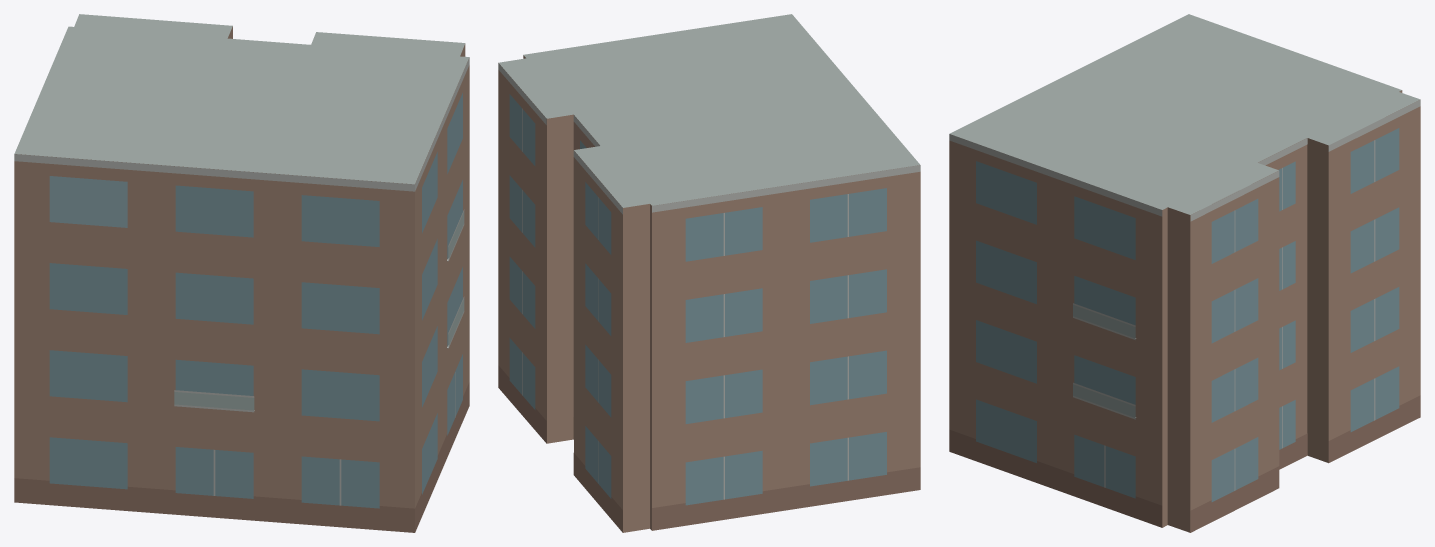
Rendered from survey-upis-32625872.glb.
3 views of the same model, side by side, from view 1: azimuth 30°, elevation 25°; view 2: azimuth 150°, elevation 25°; view 3: azimuth 270°, elevation 25° (orthographic). The views are drawn at different scales.
Visible parts, largest first — view 1: survey-upis-32625872.tmp; view 2: survey-upis-32625872.tmp; view 3: survey-upis-32625872.tmp.
Part boxes in pixels (x1,y1,x2,y2): survey-upis-32625872.tmp: (14,14,469,532); survey-upis-32625872.tmp: (498,14,920,532); survey-upis-32625872.tmp: (949,14,1420,532).
Bounding box in the file's own units: 15.88 × 11.7 × 15.74.
